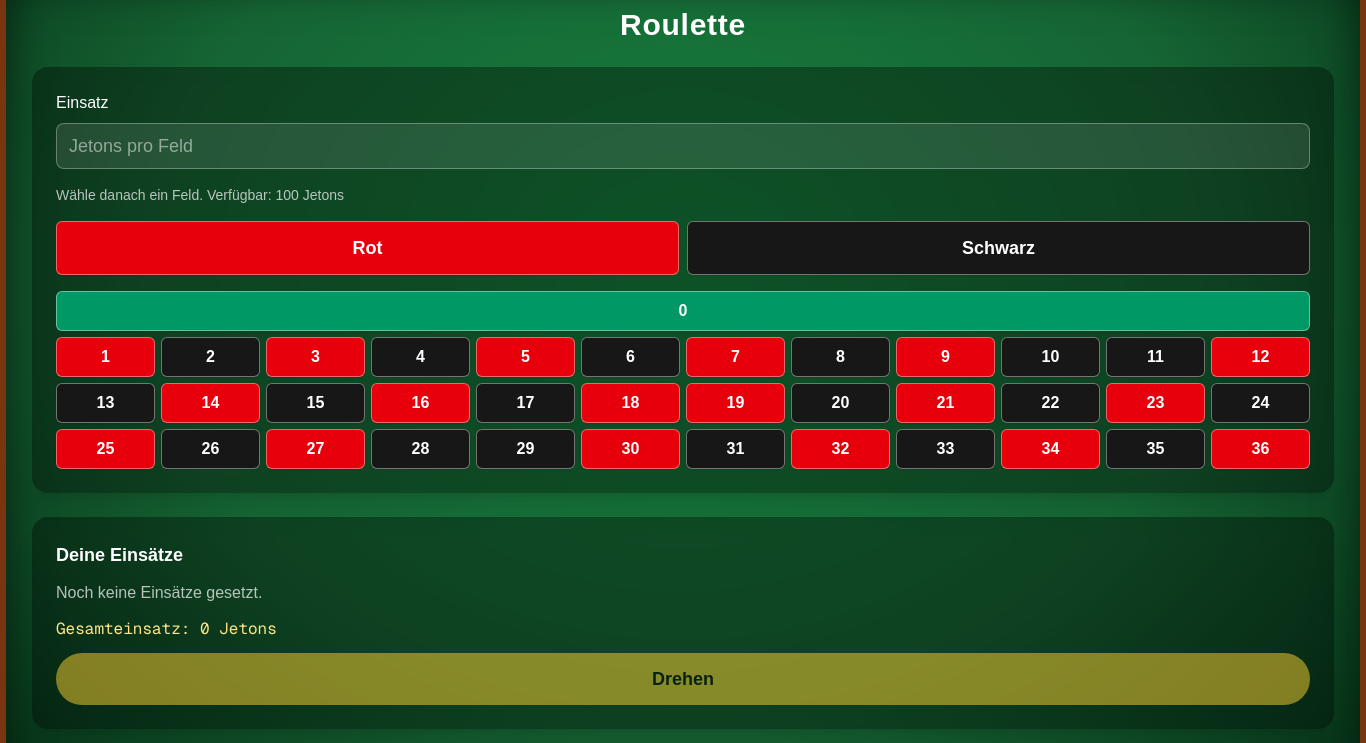
Test: RouletteGame: Einsaetze setzen › kombiniert Farb- und Nummerneinsaetze in der Uebersicht
The width and height of the screenshot is (1366, 743).
Type "10" into the field labelled "Einsatz" at (683, 146), box [56, 123, 1310, 169]
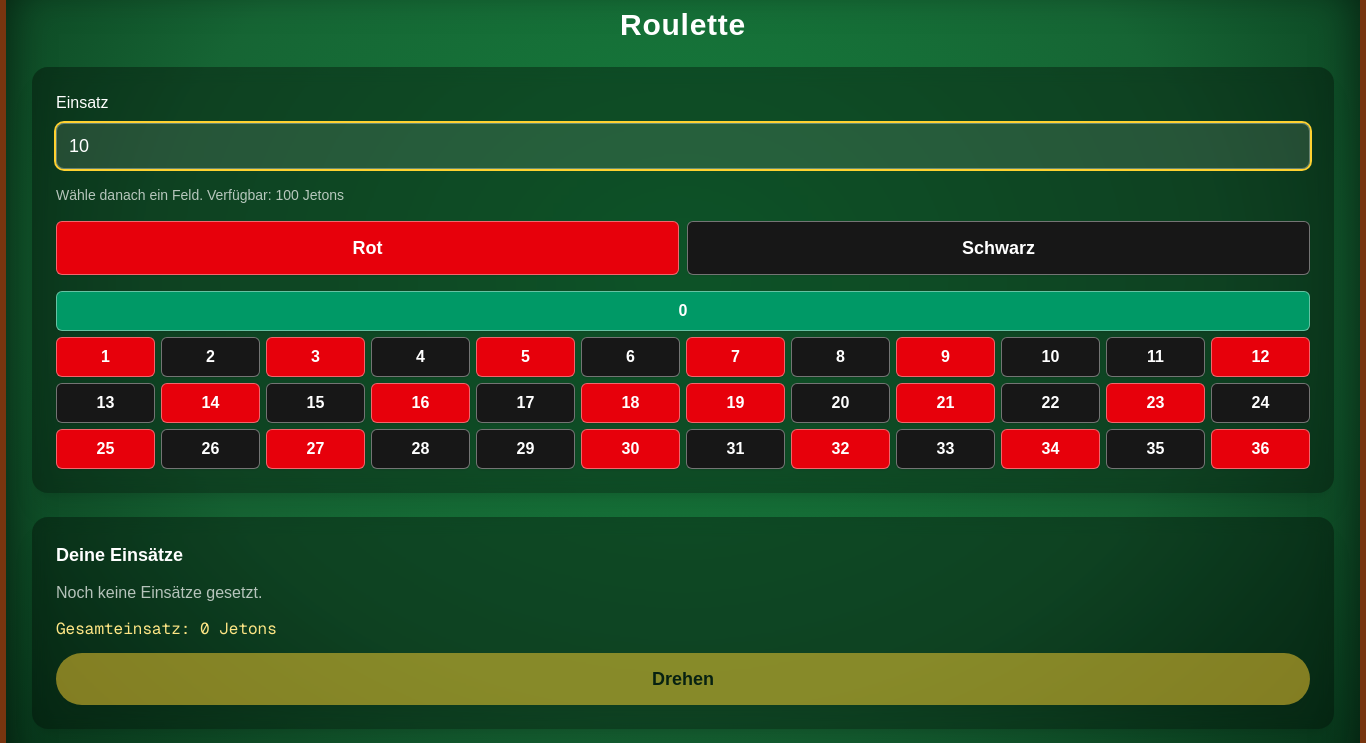
Click the button "Rot" at (368, 248), box [56, 221, 679, 275]
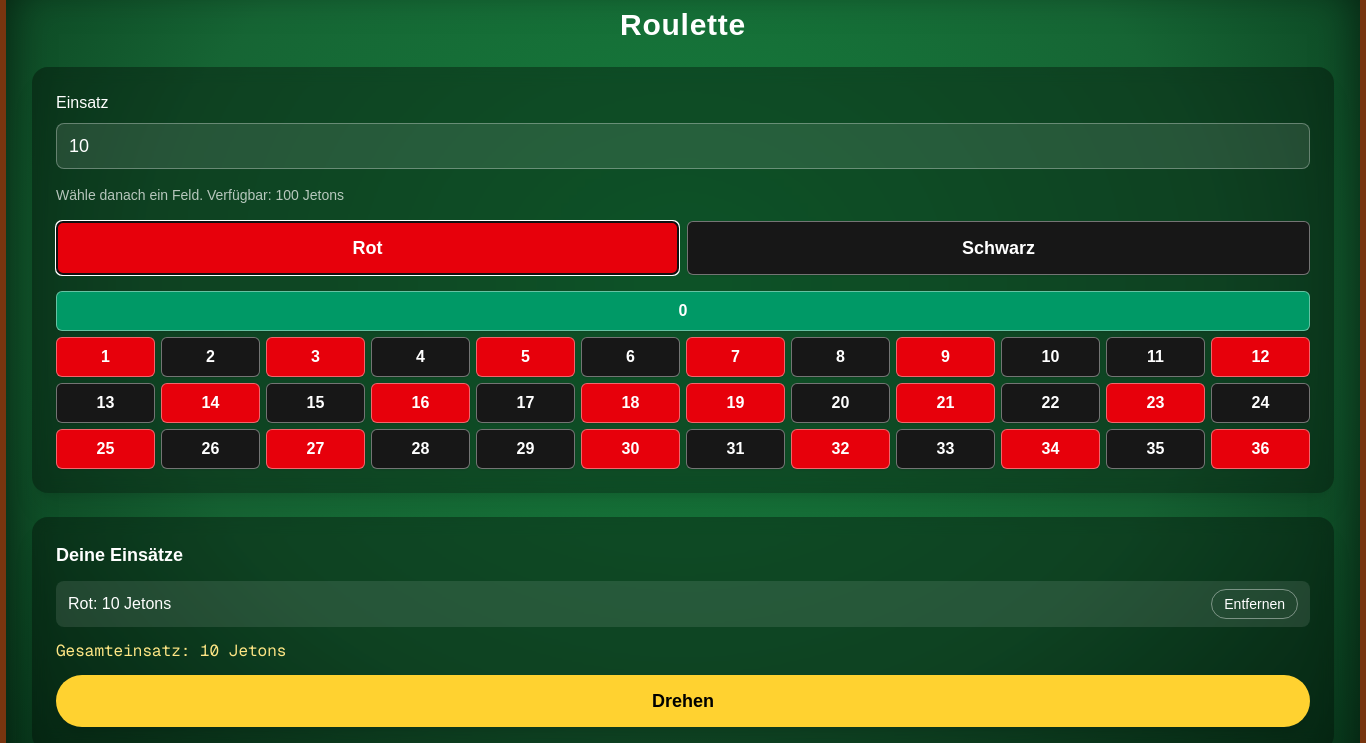
Replace the text in the field labelled "Einsatz" with "5" at (683, 146), box [56, 123, 1310, 169]
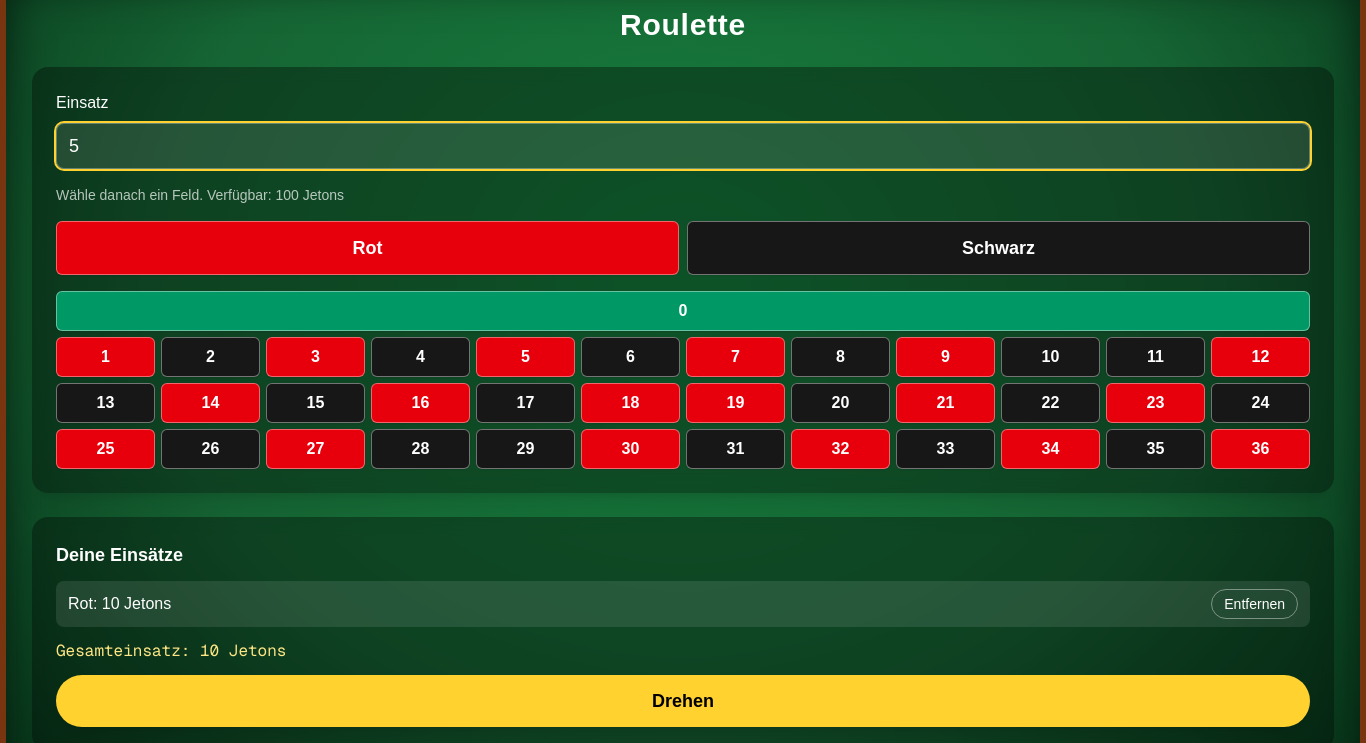
Click the button named "Nummer 17" at (526, 403), box [476, 383, 575, 423]
(page scrolled)
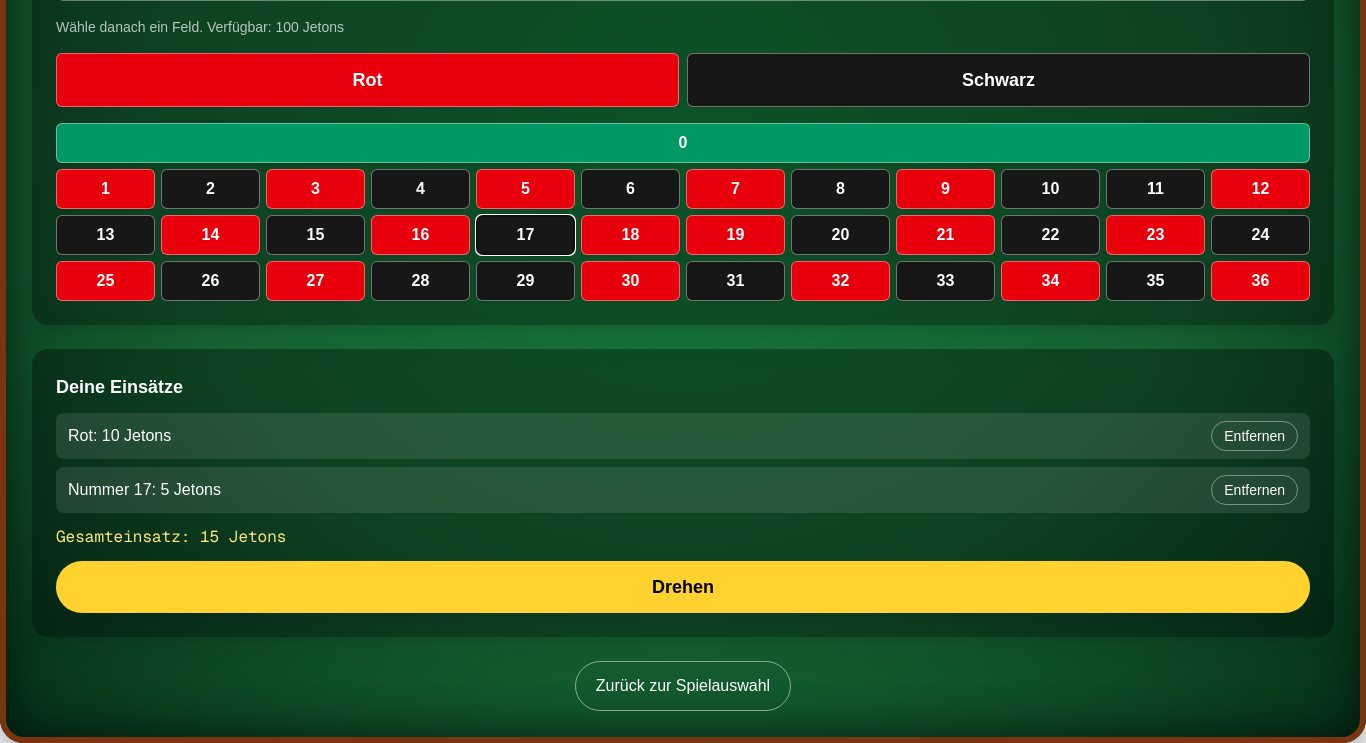
Expected: the list item "Rot: 10 Jetons Entfernen" is shown, [56, 413, 1310, 459]
Expected: the number of list items is 2, [56, 413, 1310, 459]; [56, 467, 1310, 513]
Expected: the list item "Nummer 17: 5 Jetons Entfernen" is shown, [56, 467, 1310, 513]
